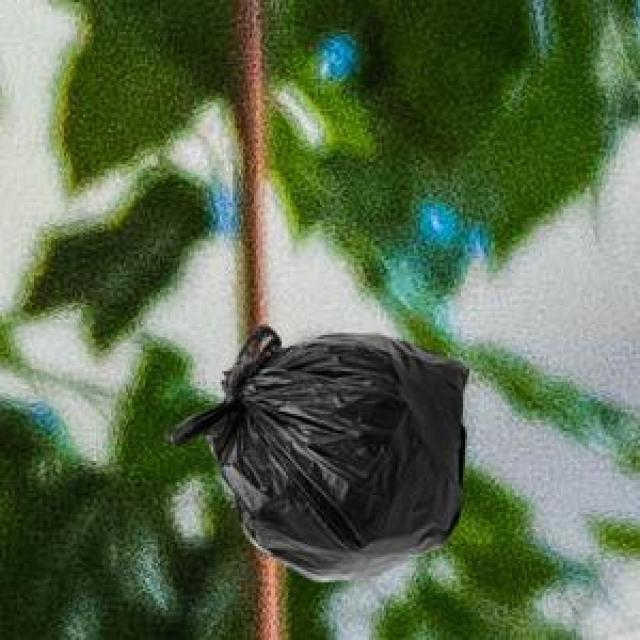Vinyl: (171, 326, 468, 579)
